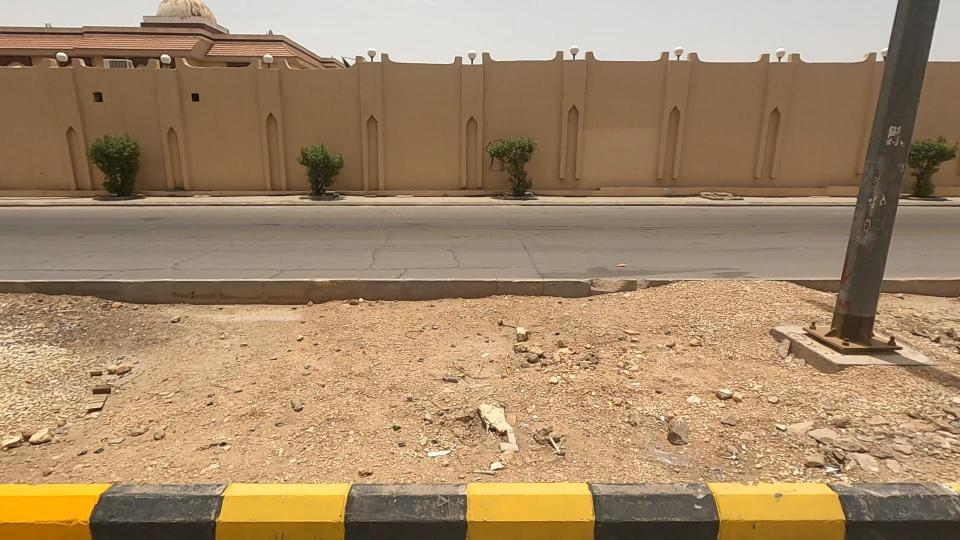CLUTTER_SIDEWALK: (0, 167, 960, 540)
